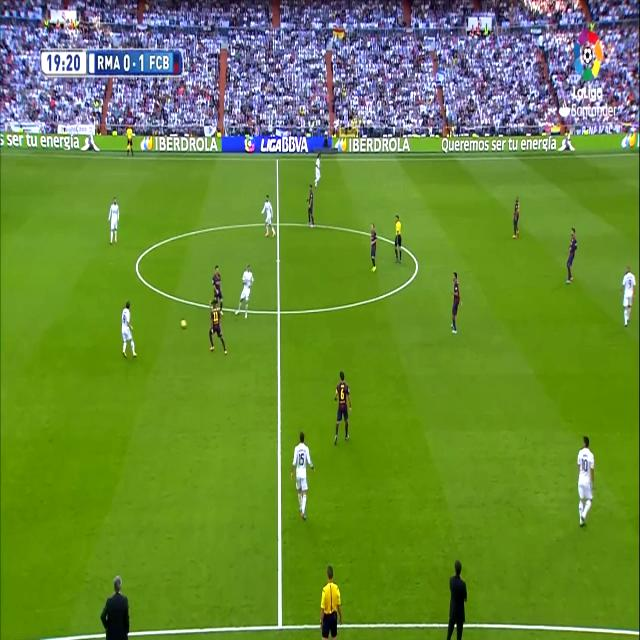halfcircle_bottom: (273, 298, 285, 324)
halfcircle_top: (274, 214, 282, 232)
midline_bottom_intersection: (271, 608, 288, 632)
midline_top_intersection: (274, 152, 281, 166)
